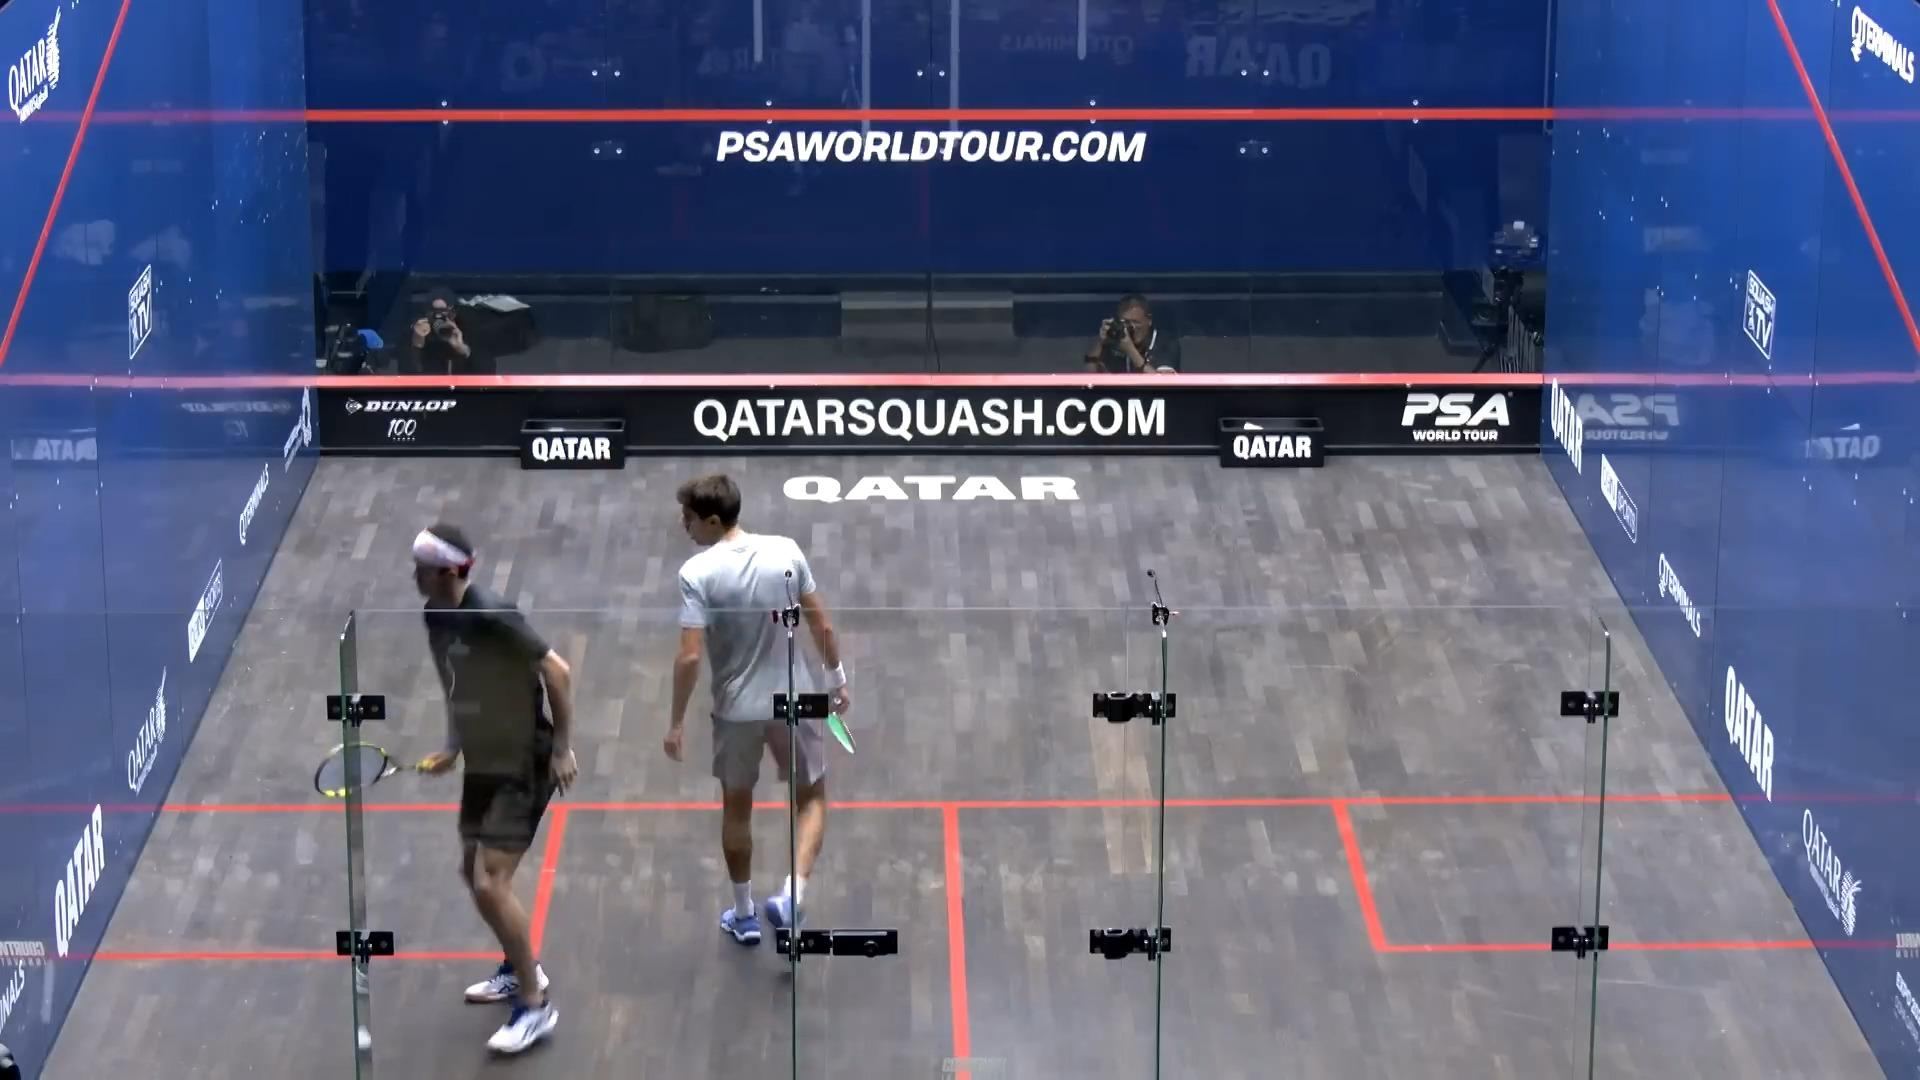Racket: (313, 737, 426, 808)
